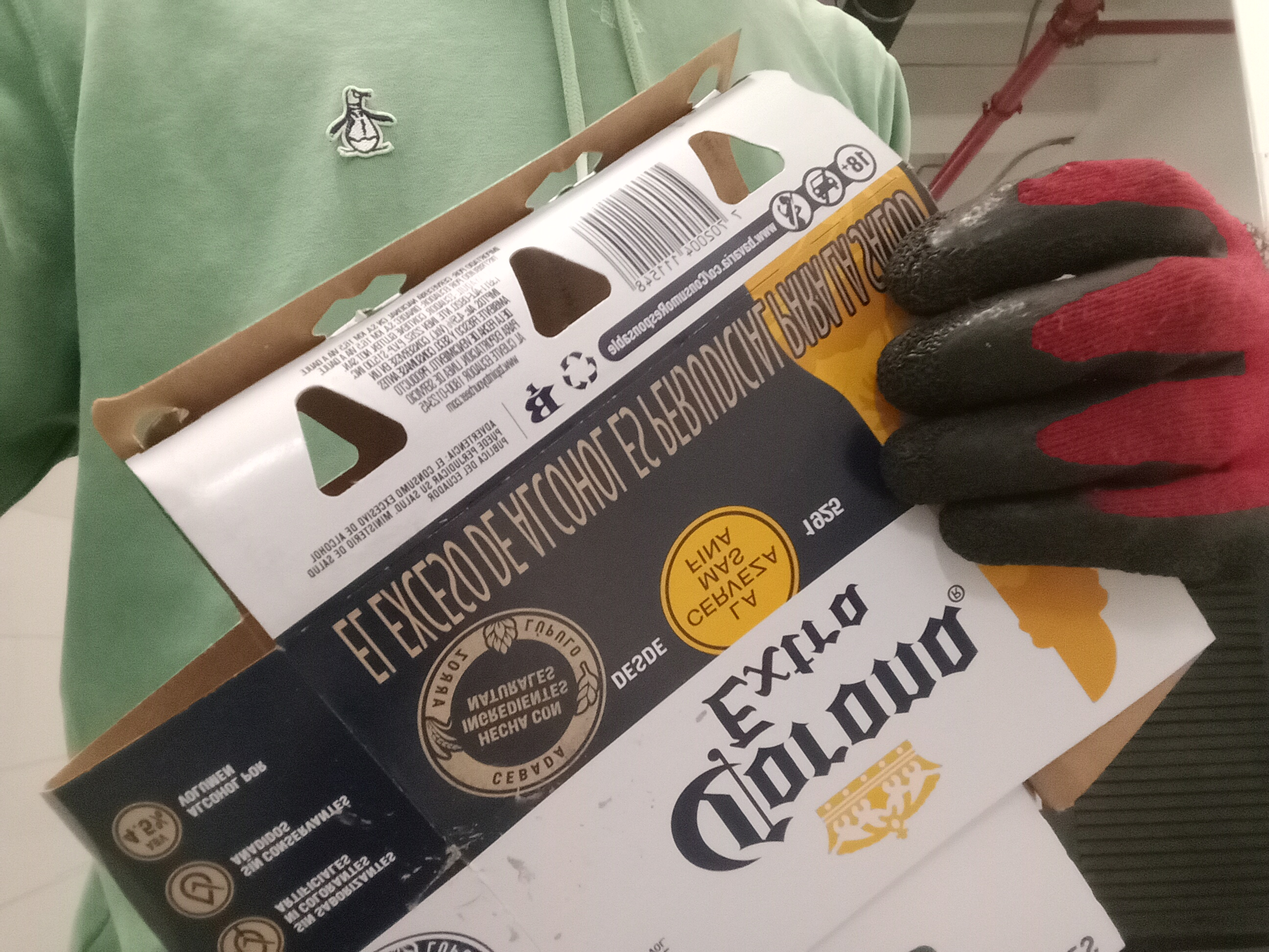Carton: (42, 29, 1215, 952)
